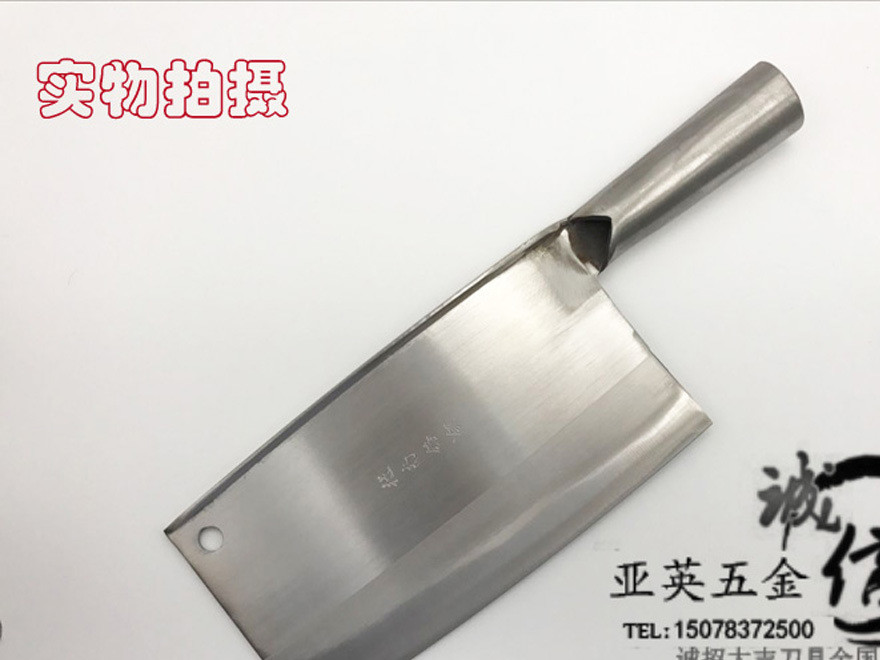knief: (156, 50, 838, 632)
